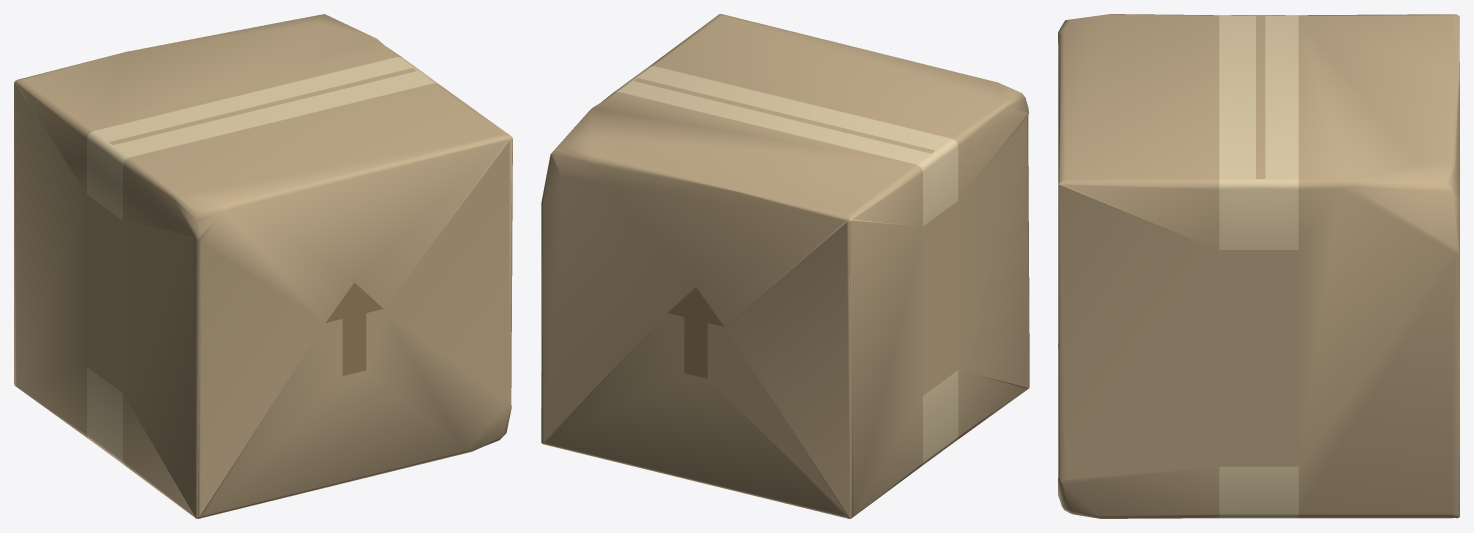
The model's file is ClosedBox.FBX.
The picture shows the model from 3 angles, left to right: view 1: azimuth 30°, elevation 25°; view 2: azimuth 150°, elevation 25°; view 3: azimuth 270°, elevation 25°; orthographic projection. The views are drawn at different scales.
Parts seen in each view (by area): view 1: Closed Box; view 2: Closed Box; view 3: Closed Box.
Boxes of the visible parts, left/top/right/bottom form: Closed Box: left=14, top=14, right=512, bottom=518; Closed Box: left=541, top=14, right=1029, bottom=518; Closed Box: left=1058, top=14, right=1459, bottom=518.
Size of the model in its own units: 50 by 46.51 by 50.
